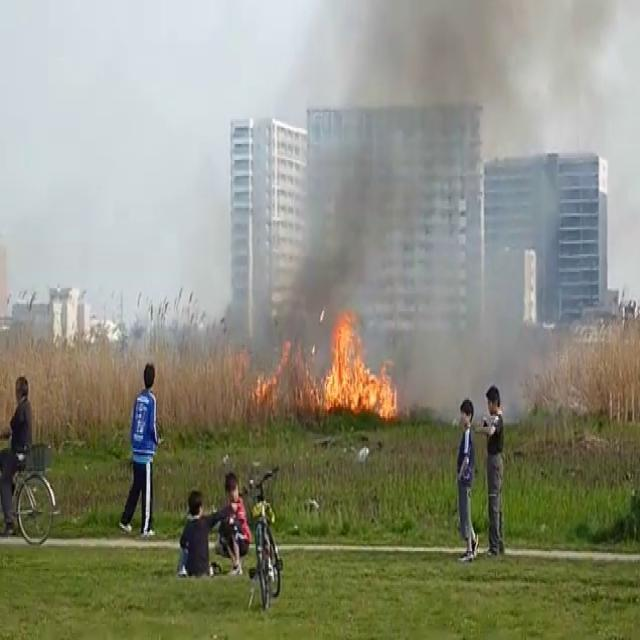Fire: (316, 306, 399, 424), (259, 333, 302, 400)
Smoke: (260, 0, 640, 363)
